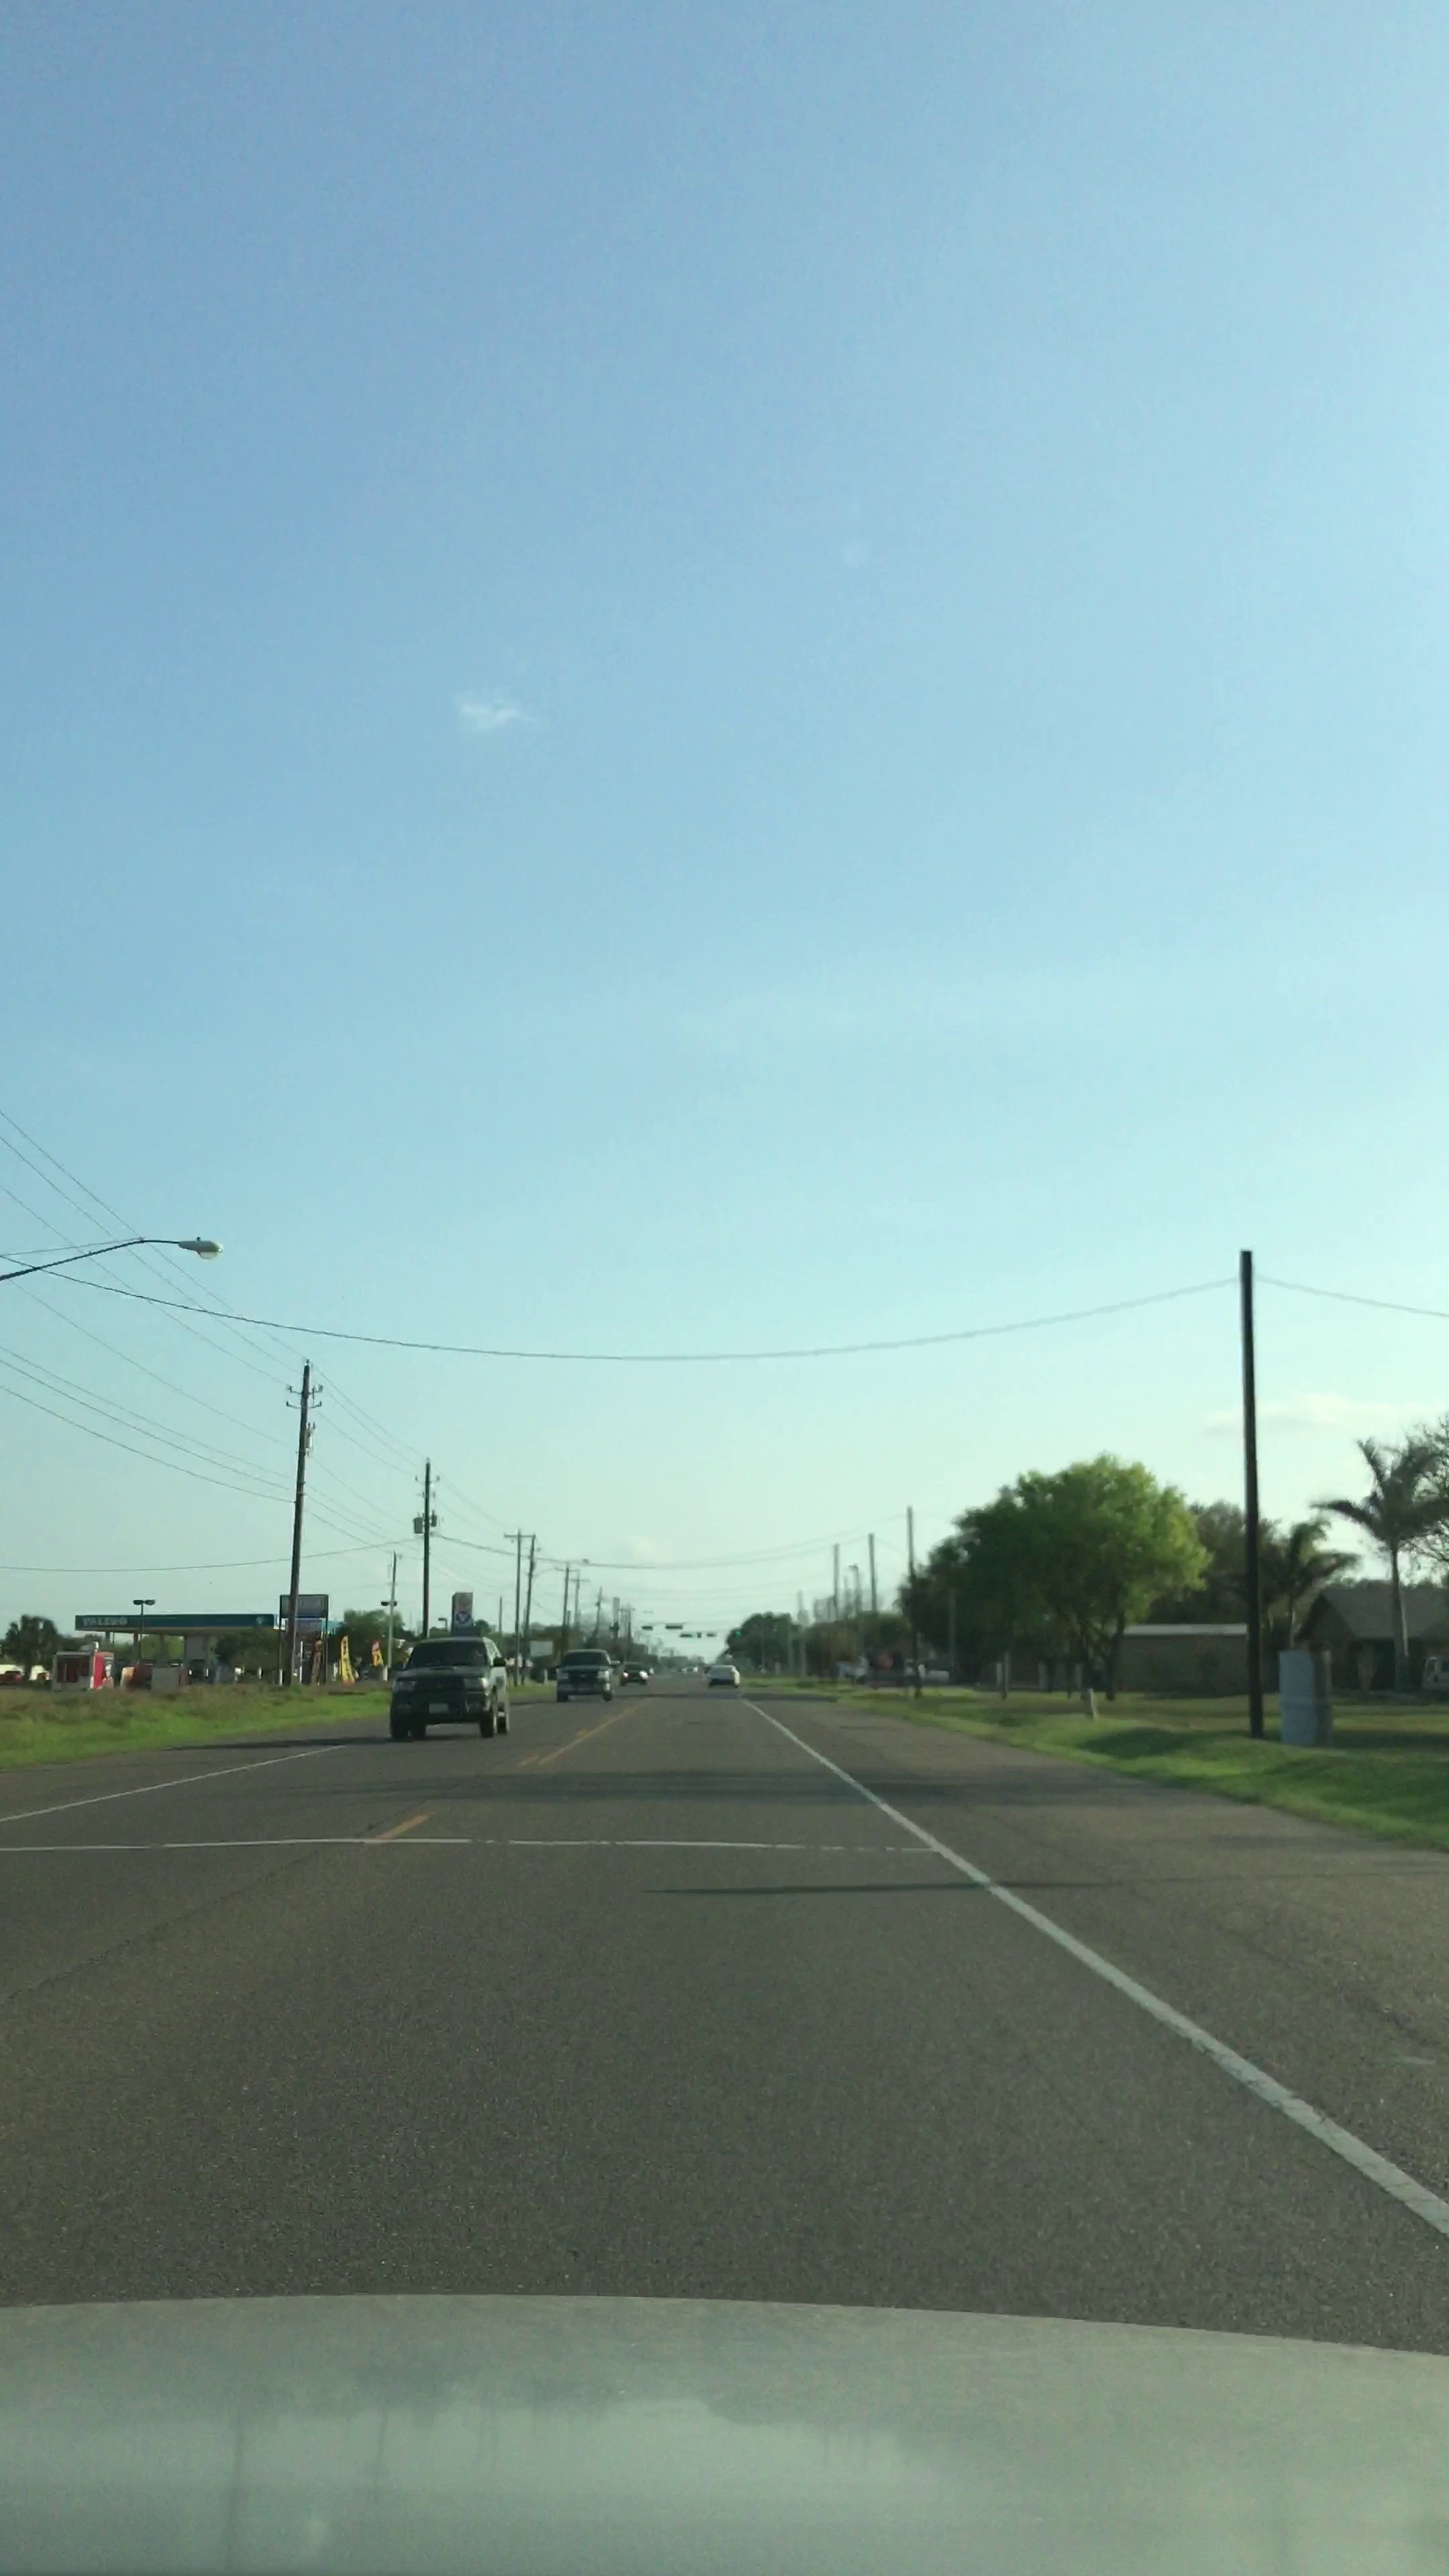blurredLine: (64, 1815, 961, 1877)
